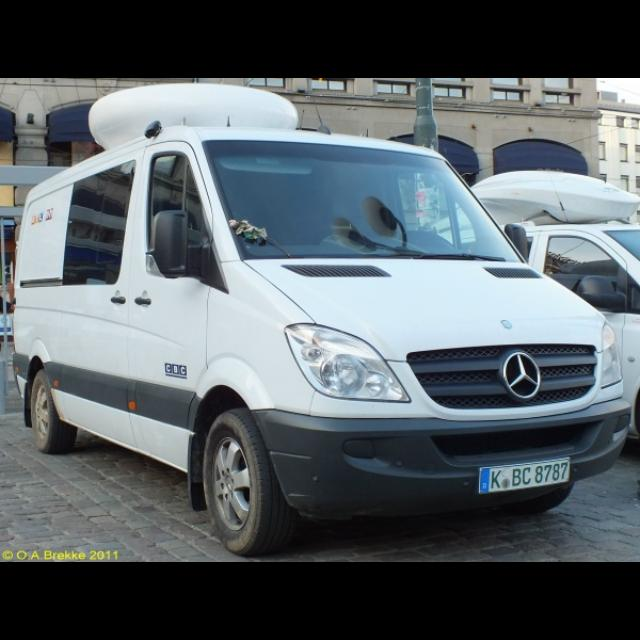d_license_plate: (479, 457, 568, 493)
